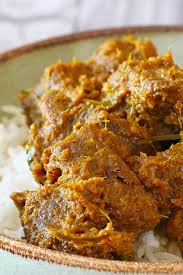rendang: (12, 28, 183, 263)
